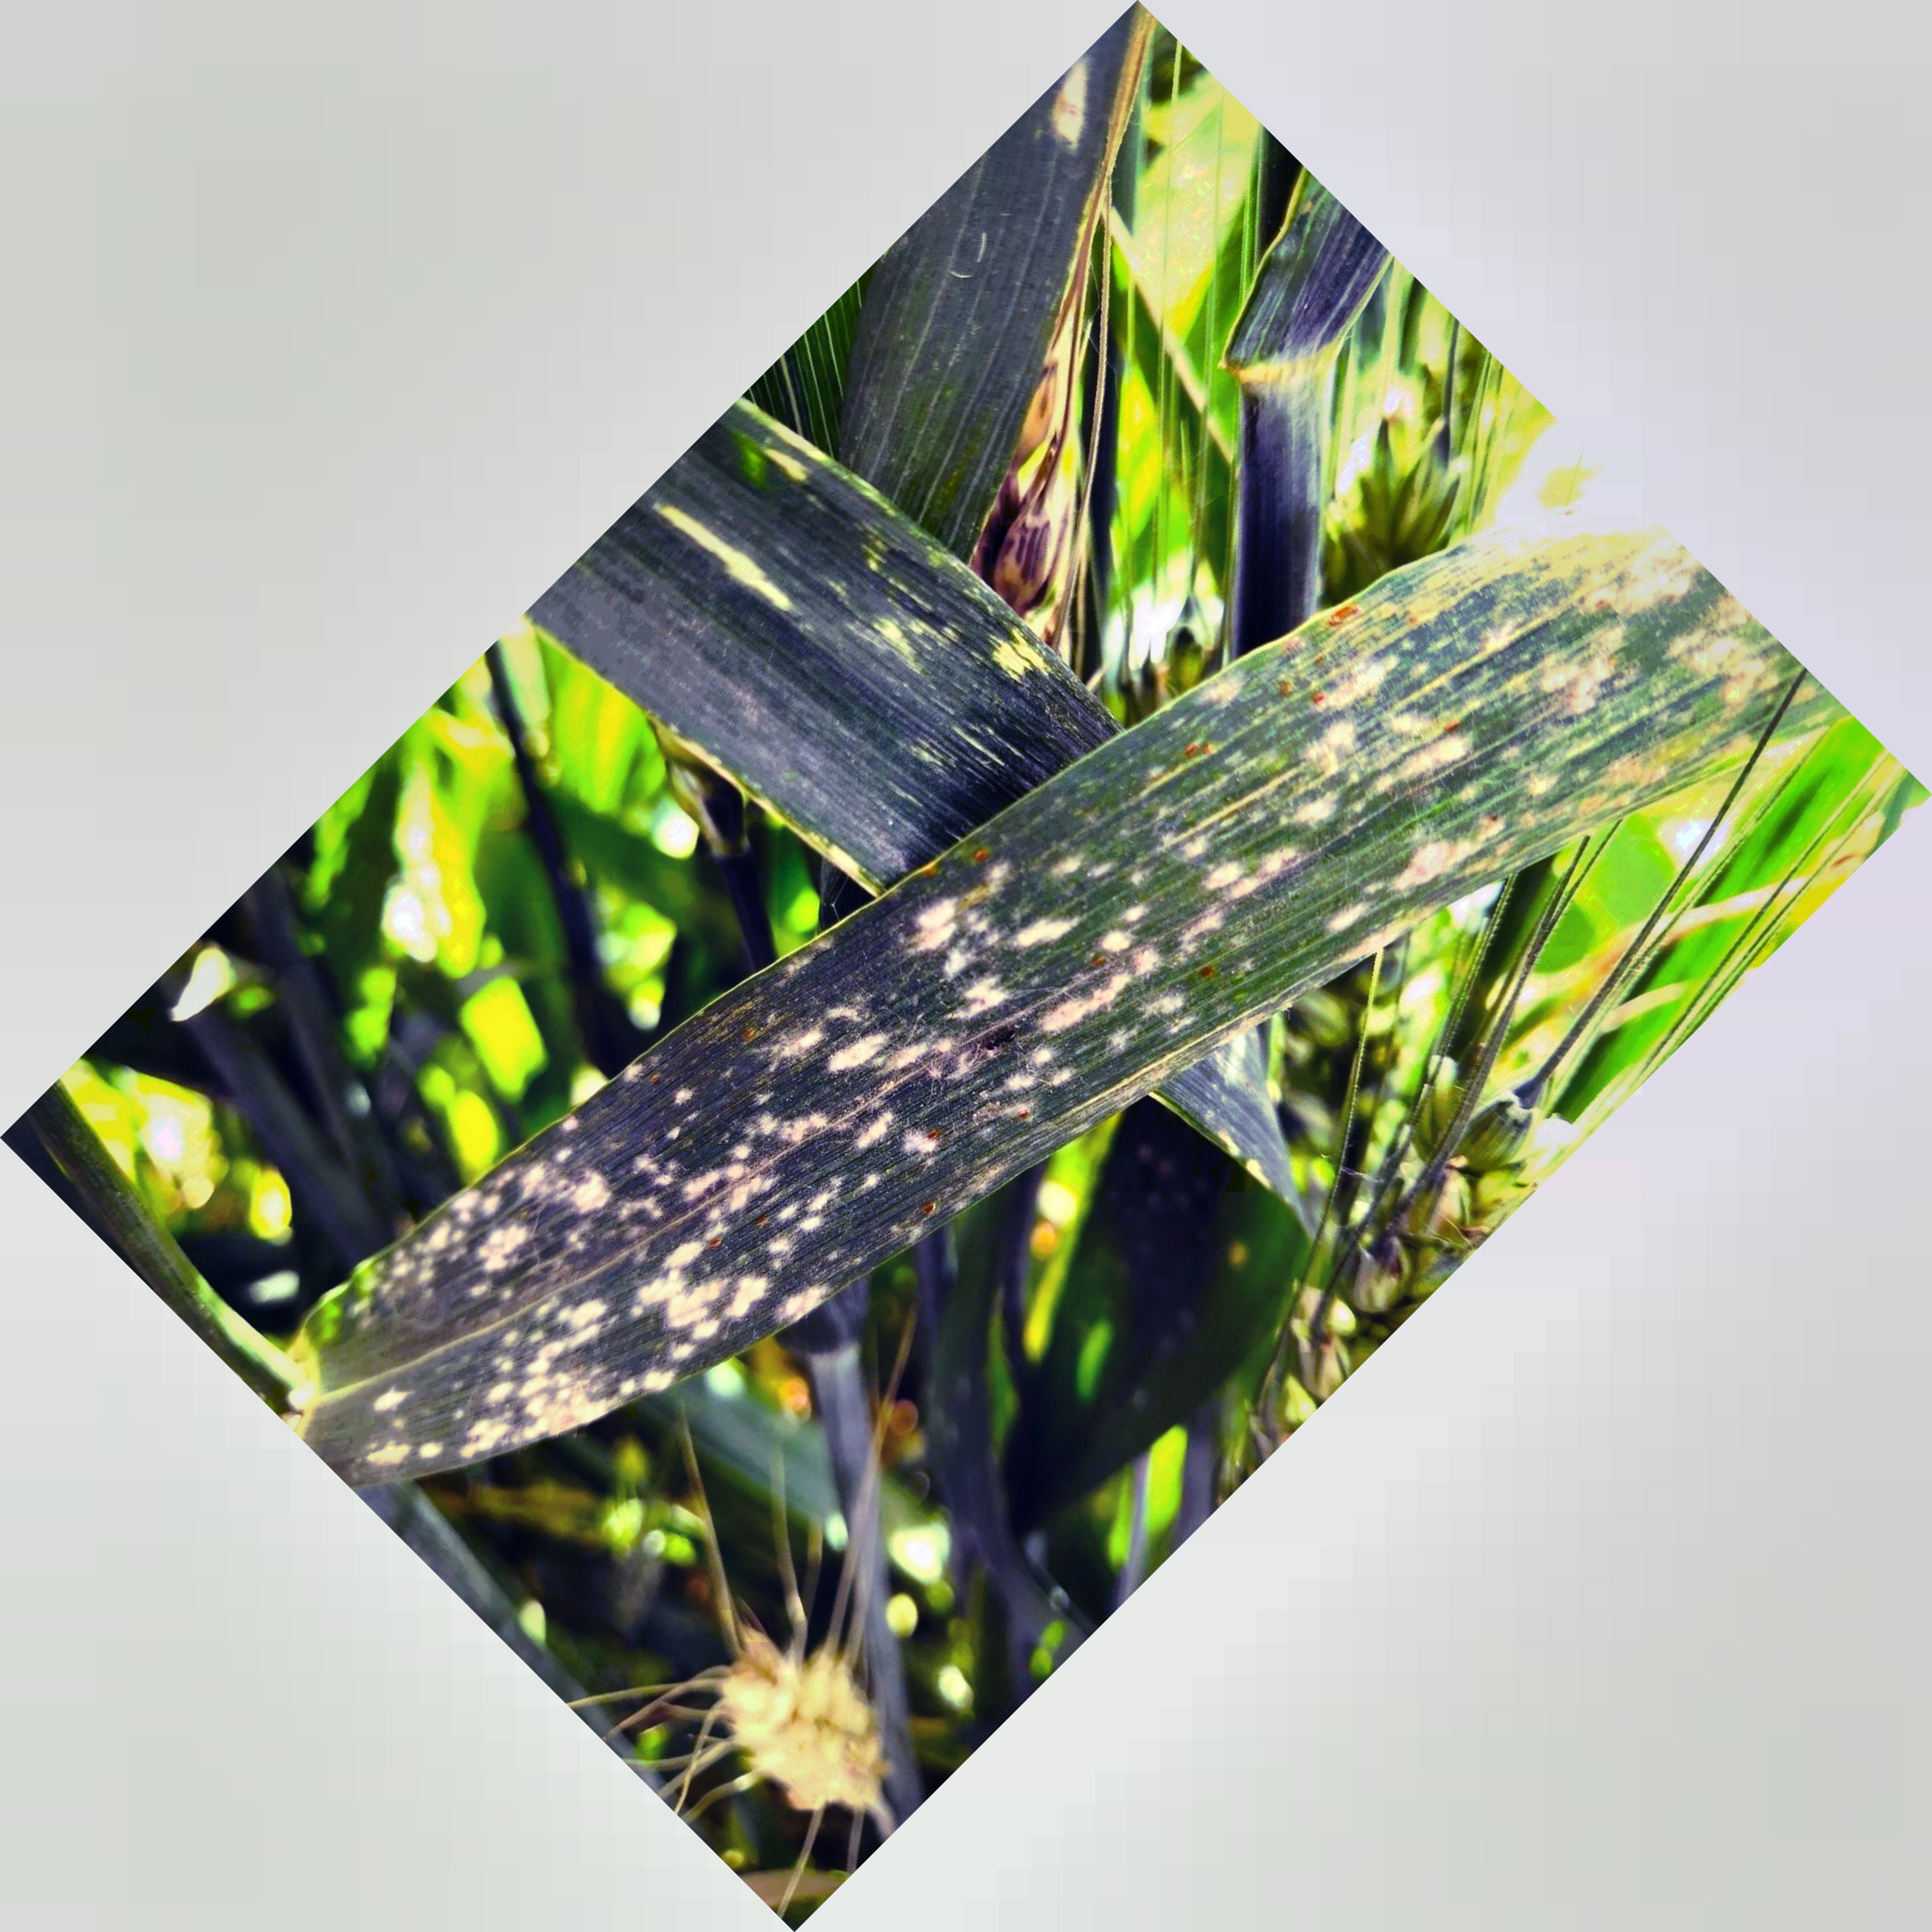Powdery Mildew: (396, 580, 1585, 1410)
